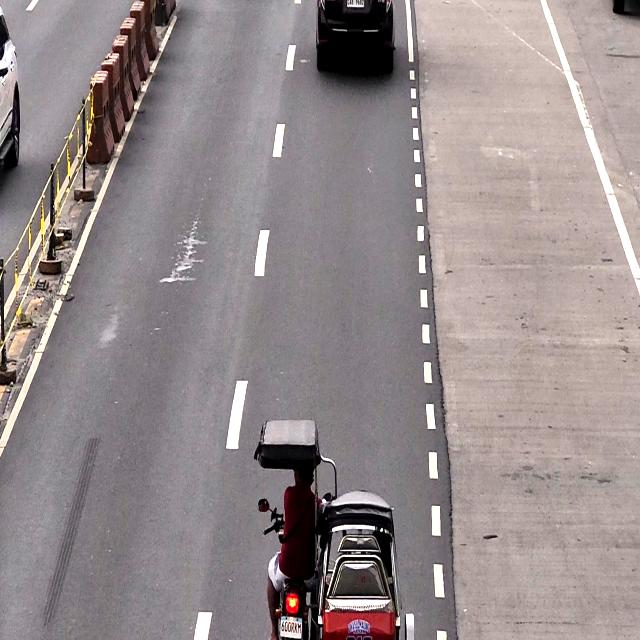Car: (317, 0, 393, 69)
License-Plate: (278, 615, 302, 639)
Tricycle: (255, 409, 408, 640)
